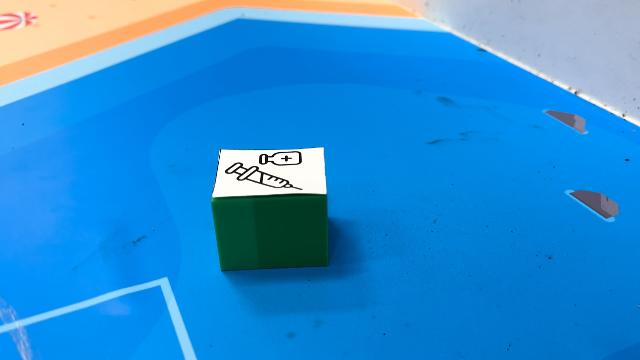syringe: (212, 148, 330, 272)
